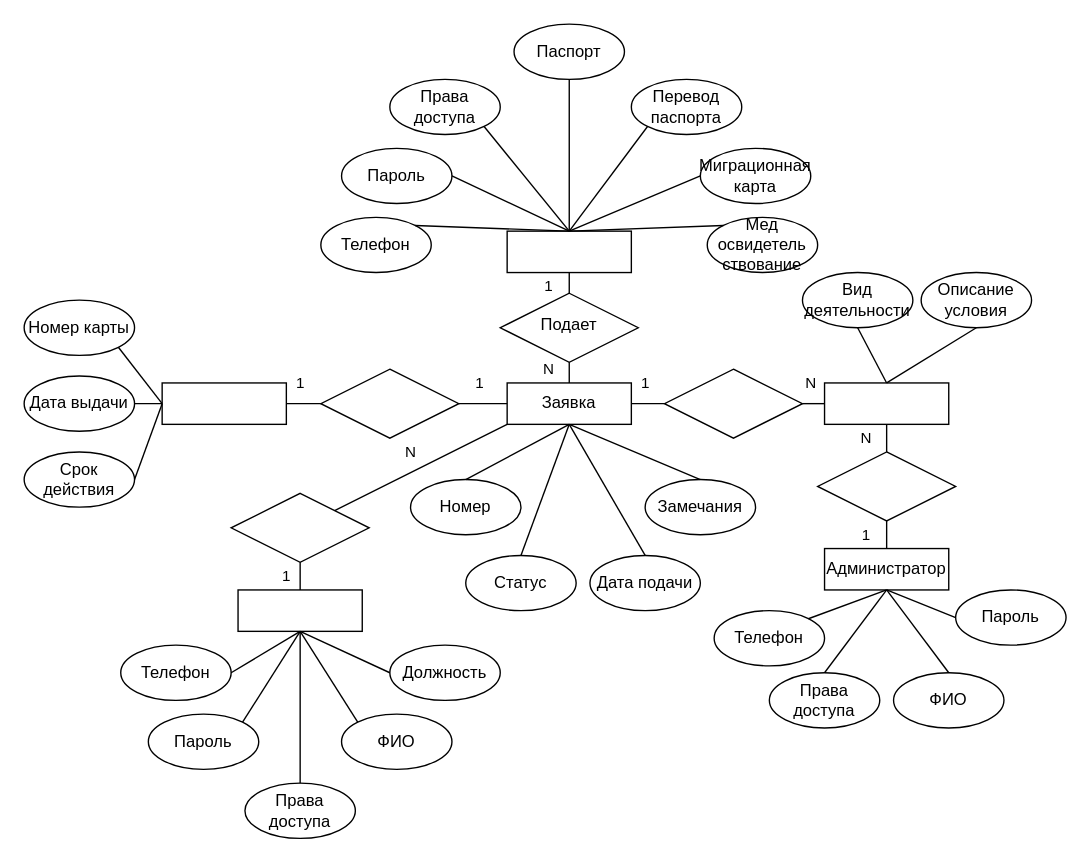
The diagram is 1090 pixels wide and 863 high, and some of its shapes have lost their labels. The shapes that lost their labels are listed below. From the top down, each one's centre as x and y in pixels, then its label:
At [568,251]: "Ин. гражданин".
At [223,403]: "Электронная карта".
At [389,403]: "Выдается по".
At [732,403]: "Содержит".
At [886,403]: "Условие заявки".
At [886,486]: "Редактирует".
At [299,527]: "Обрабатывает".
At [299,610]: "Сотрудник МВД".
